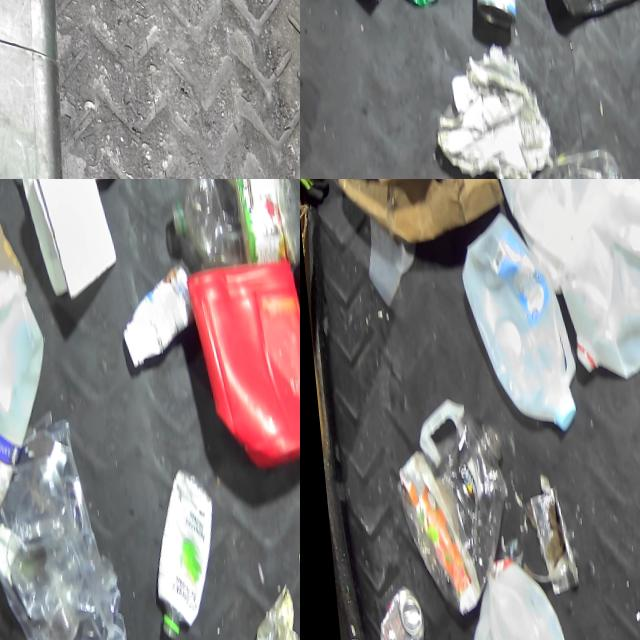can: (517, 482, 568, 594), (361, 580, 414, 640), (465, 0, 522, 25)
milk_jug: (451, 207, 574, 428), (546, 179, 640, 378), (487, 179, 613, 290), (0, 264, 51, 513), (451, 554, 559, 640)
non_white_jug: (379, 391, 508, 614), (179, 255, 300, 464)
plastic_bottle: (158, 179, 300, 261), (487, 142, 628, 179)
